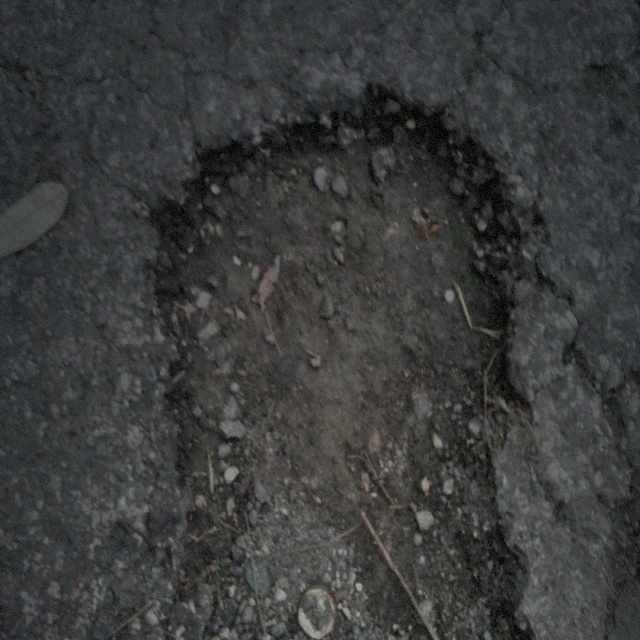pothole: (150, 77, 537, 568)
